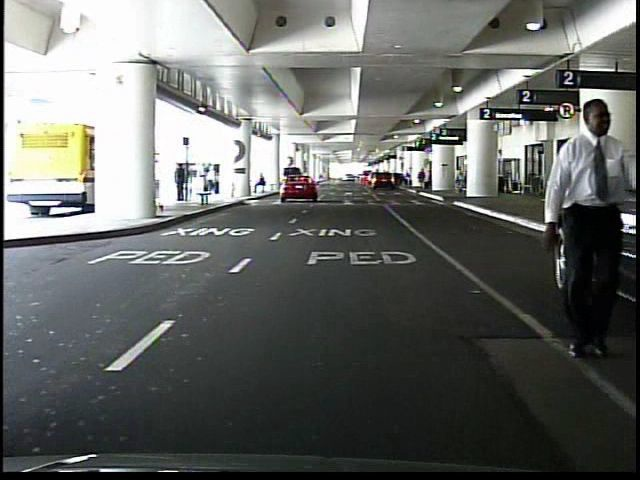person: (548, 96, 628, 362), (173, 161, 188, 203), (452, 167, 465, 195), (255, 172, 269, 195), (416, 167, 426, 191)
